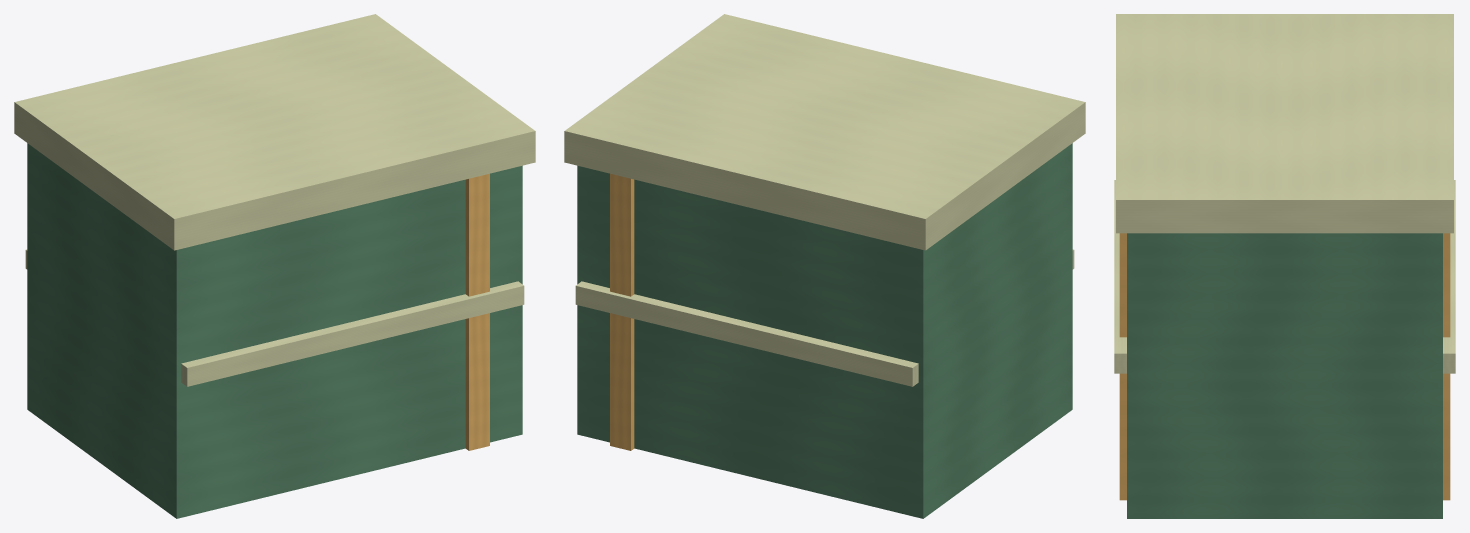
The model's file is atlas100-solarpunk-util02.lod2.glb.
The picture shows the model from 3 angles, left to right: view 1: azimuth 30°, elevation 25°; view 2: azimuth 150°, elevation 25°; view 3: azimuth 270°, elevation 25°; orthographic projection. The views are drawn at different scales.
Parts seen in each view (by area): view 1: atlas100-solarpunk-util02:part-000, atlas100-solarpunk-util02:part-005, atlas100-solarpunk-util02:part-004, atlas100-solarpunk-util02:part-002; view 2: atlas100-solarpunk-util02:part-000, atlas100-solarpunk-util02:part-005, atlas100-solarpunk-util02:part-003, atlas100-solarpunk-util02:part-002; view 3: atlas100-solarpunk-util02:part-000, atlas100-solarpunk-util02:part-005, atlas100-solarpunk-util02:part-002, atlas100-solarpunk-util02:part-003, atlas100-solarpunk-util02:part-004.
Part boxes in pixels (x1=…): atlas100-solarpunk-util02:part-000: x1=27, y1=143, x2=522, y2=518; atlas100-solarpunk-util02:part-005: x1=14, y1=14, x2=535, y2=250; atlas100-solarpunk-util02:part-004: x1=181, y1=281, x2=524, y2=386; atlas100-solarpunk-util02:part-002: x1=465, y1=173, x2=489, y2=450; atlas100-solarpunk-util02:part-000: x1=577, y1=143, x2=1072, y2=518; atlas100-solarpunk-util02:part-005: x1=564, y1=14, x2=1085, y2=250; atlas100-solarpunk-util02:part-003: x1=575, y1=281, x2=918, y2=386; atlas100-solarpunk-util02:part-002: x1=610, y1=173, x2=634, y2=450; atlas100-solarpunk-util02:part-000: x1=1127, y1=233, x2=1442, y2=518; atlas100-solarpunk-util02:part-005: x1=1116, y1=14, x2=1453, y2=233; atlas100-solarpunk-util02:part-002: x1=1119, y1=233, x2=1450, y2=500; atlas100-solarpunk-util02:part-003: x1=1443, y1=180, x2=1455, y2=373; atlas100-solarpunk-util02:part-004: x1=1114, y1=180, x2=1126, y2=373.
Size of the model in its own units: 1.23 by 0.9923 by 0.9514.
3 materials, 3 textured.
